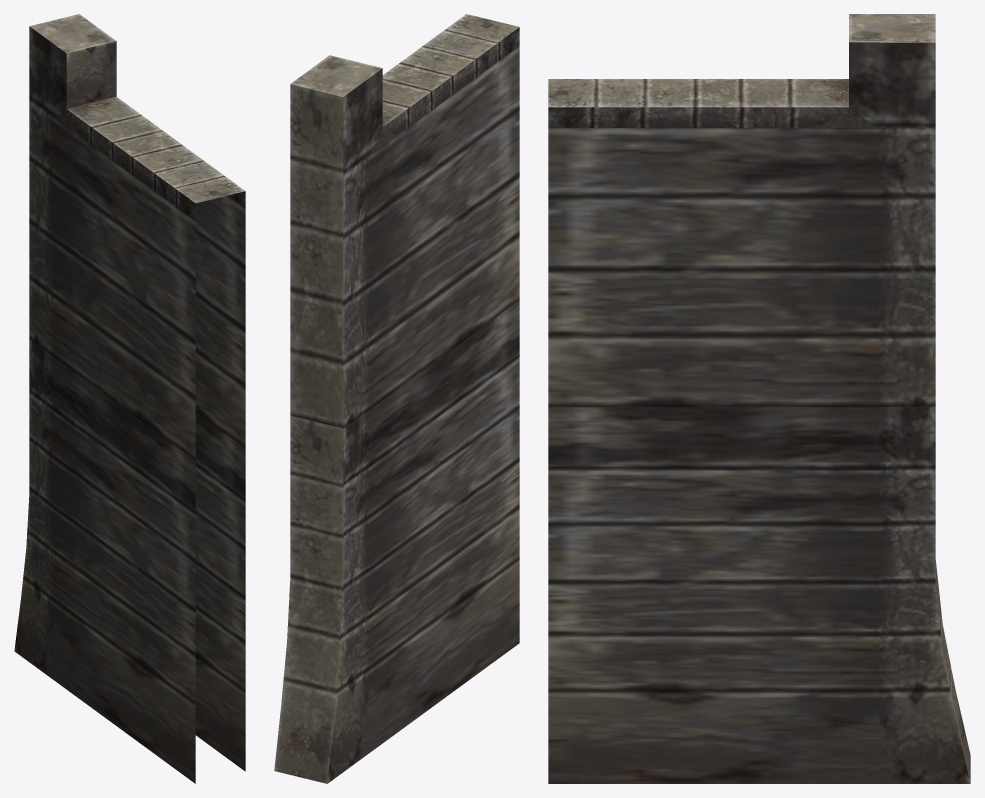
The model's file is SC_tamalagebi_07.FBX.
The picture shows the model from 3 angles, left to right: view 1: azimuth 30°, elevation 25°; view 2: azimuth 150°, elevation 25°; view 3: azimuth 270°, elevation 25°; orthographic projection. The views are drawn at different scales.
Visible parts, largest first — view 1: SC_tamalagebi_07; view 2: SC_tamalagebi_07; view 3: SC_tamalagebi_07.
Part boxes in pixels (box(x1,y1,x2,y2)): SC_tamalagebi_07: box(14, 14, 245, 783); SC_tamalagebi_07: box(274, 14, 519, 783); SC_tamalagebi_07: box(548, 14, 970, 783).
Size of the model in its own units: 55.29 by 672 by 347.
